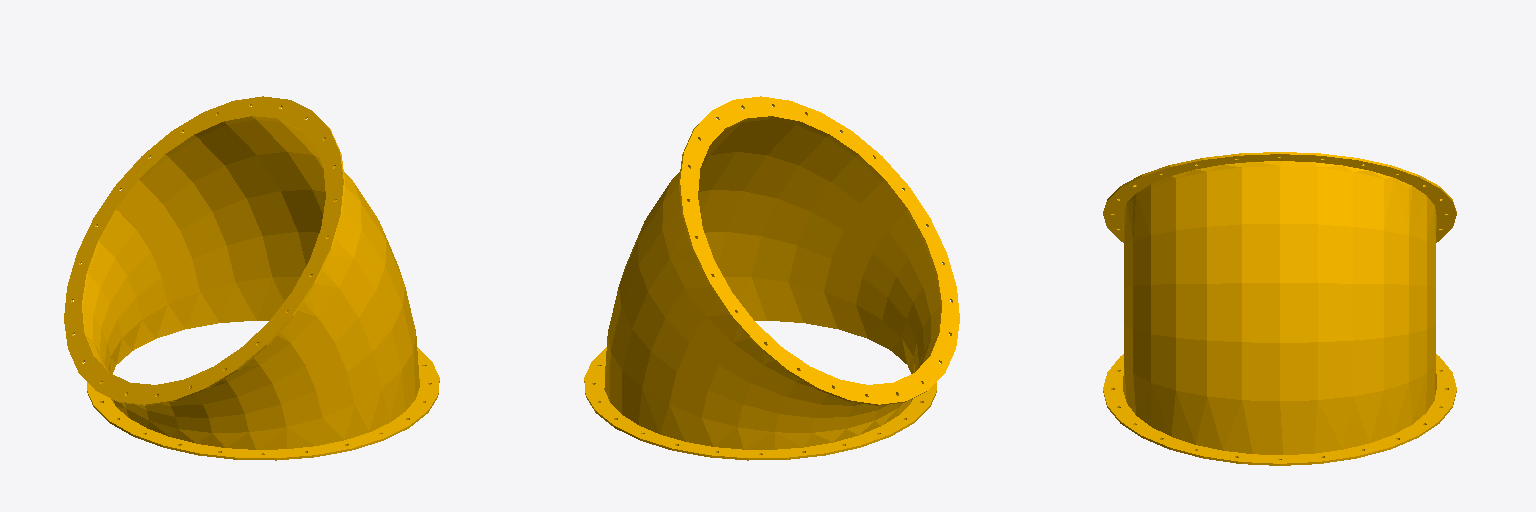
File: dreje-45-obj.obj
3 views of the same model, side by side, from view 1: azimuth 30°, elevation 25°; view 2: azimuth 150°, elevation 25°; view 3: azimuth 270°, elevation 25° (orthographic).
Visible parts, largest first — view 1: dreje-45-obj; view 2: dreje-45-obj; view 3: dreje-45-obj.
Boxes of the visible parts, <box> form: dreje-45-obj: <box>64,96,439,460</box>; dreje-45-obj: <box>584,96,959,460</box>; dreje-45-obj: <box>1103,152,1456,465</box>.
Bounding box in the file's own units: 0.9213 × 0.7219 × 0.88.